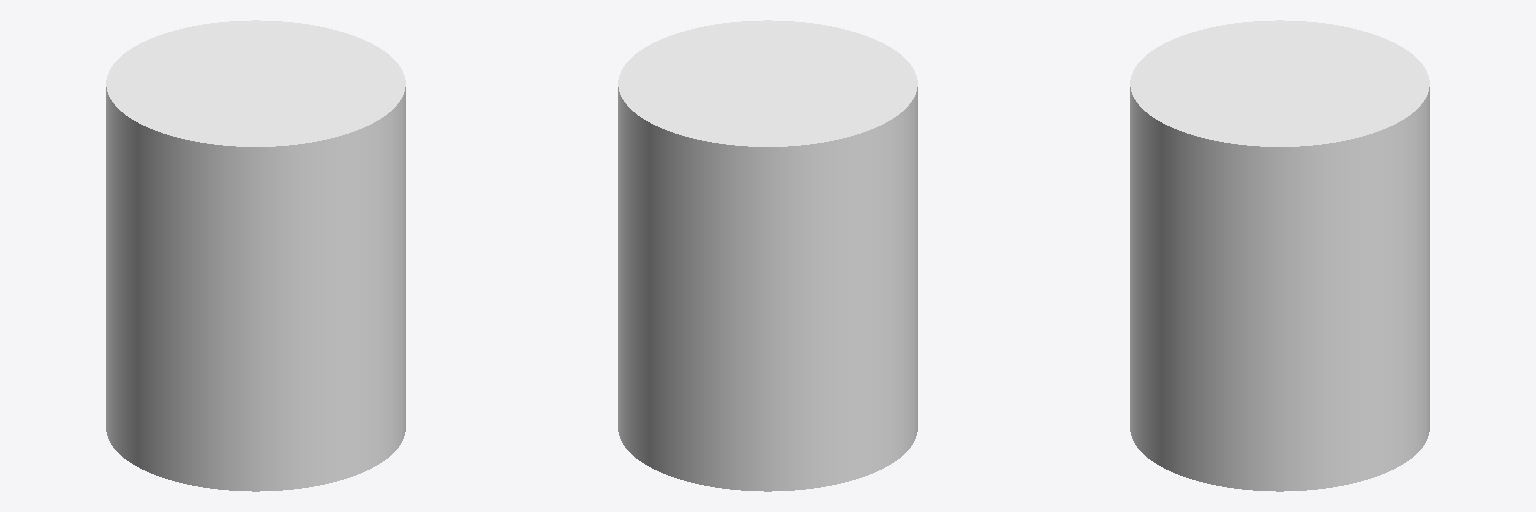
URDF robot description (object):
<?xml version="1.0" ?>
<robot name="object">
  <material name="object_color">
	<color rgba="1 1 1 1"/>
  </material>

  <link name="object/object">
    <visual>
      <origin rpy="0 0 1.5707963267948966" xyz="0 0 0"/>
      <geometry>
        <mesh filename="package://data/sim/meshes/object_exp.stl" scale="0.001 0.001 0.001"/>
      </geometry>
      <material name="object_color"/>
    </visual>
	
    <collision>
      <origin rpy="0 0 1.5707963267948966" xyz="0 0 0"/>
      <geometry>
        <mesh filename="package://data/sim/meshes/object_exp.stl" scale="0.001 0.001 0.001"/>
      </geometry>
    </collision>
	
    <inertial>
      <origin rpy="0 0 0" xyz="0 0 0"/>
      <mass value="0.0001"/>
      <inertia ixx="0.0" ixy="0.0" ixz="0.0" iyy="0.0" iyz="0.0" izz="0.0"/>
    </inertial>
  </link>
  
</robot>

--- Facts derived from the render (not from the file) ---
Views: 3 orthographic renders of the robot side by side, from view 1: azimuth 30°, elevation 25°; view 2: azimuth 150°, elevation 25°; view 3: azimuth 270°, elevation 25°.
Model object with 1 links and 0 joints (none), rooted at object/object, posed all joints at 0.
Links seen in each view (by area): view 1: object/object; view 2: object/object; view 3: object/object.
Link boxes in pixels (left/top/right/bottom): object/object: left=106, top=20, right=405, bottom=491; object/object: left=618, top=20, right=917, bottom=491; object/object: left=1130, top=20, right=1429, bottom=491.
Bounding box of the posed robot: 0.091 × 0.091 × 0.1155 m (x, y, z).
Meshes: 1 distinct files referenced, 1 mesh visuals loaded (1 binary STL).